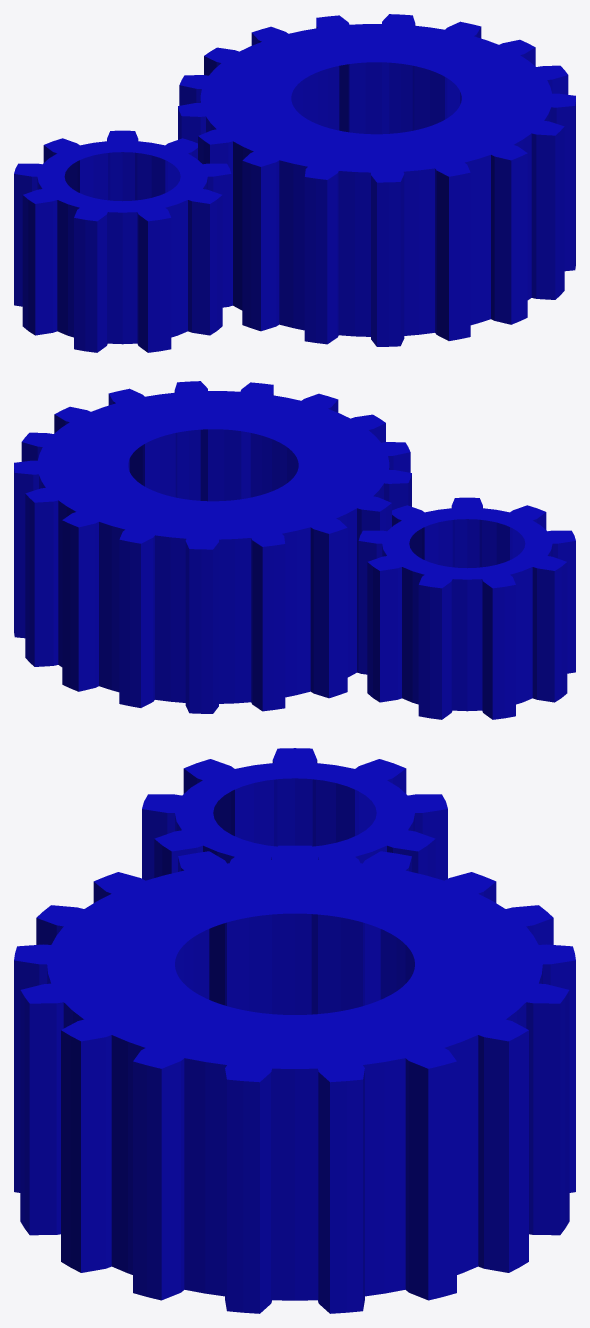
The model's file is gears.obj.
The picture shows the model from 3 angles, top to bottom: view 1: azimuth 30°, elevation 25°; view 2: azimuth 150°, elevation 25°; view 3: azimuth 270°, elevation 25°; orthographic projection. The views are drawn at different scales.
Visible parts, largest first — view 1: LargeGear_Gear.001, SmallGear_Gear; view 2: LargeGear_Gear.001, SmallGear_Gear; view 3: LargeGear_Gear.001, SmallGear_Gear.
Boxes of the visible parts, left/top/right/bottom form: LargeGear_Gear.001: left=178, top=14, right=575, bottom=346; SmallGear_Gear: left=14, top=130, right=231, bottom=352; LargeGear_Gear.001: left=14, top=381, right=411, bottom=713; SmallGear_Gear: left=358, top=497, right=575, bottom=719; LargeGear_Gear.001: left=14, top=845, right=575, bottom=1313; SmallGear_Gear: left=142, top=748, right=447, bottom=880.
Size of the model in its own units: 6.61 by 2 by 4.4.
